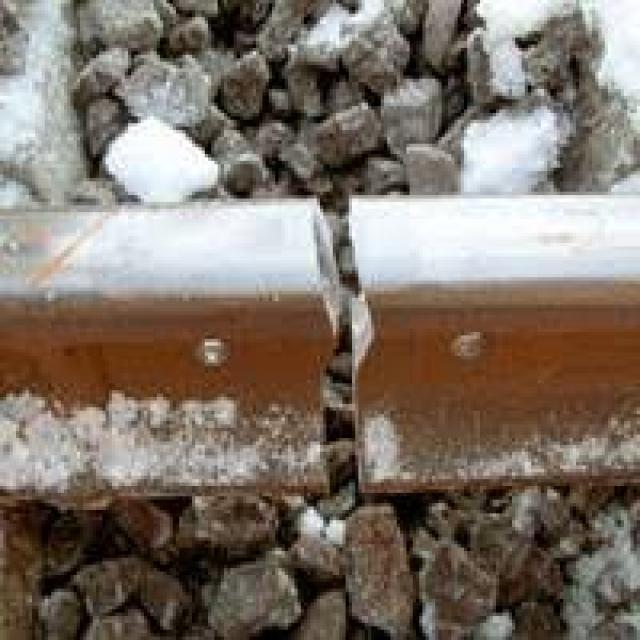fault: (284, 183, 406, 508)
